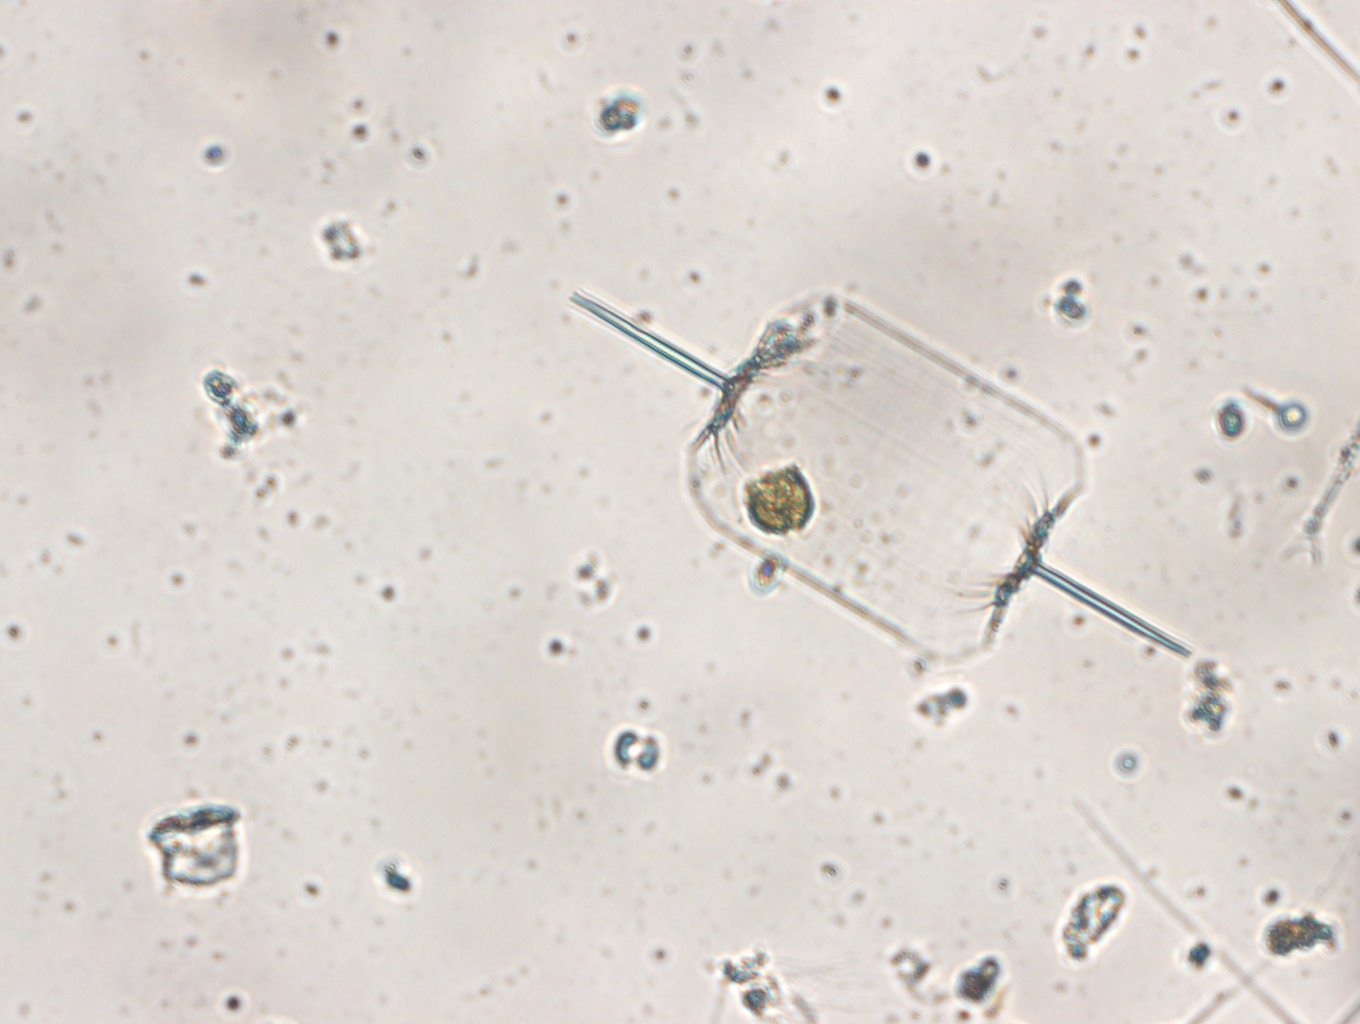ditylum: (560, 281, 1199, 672)
